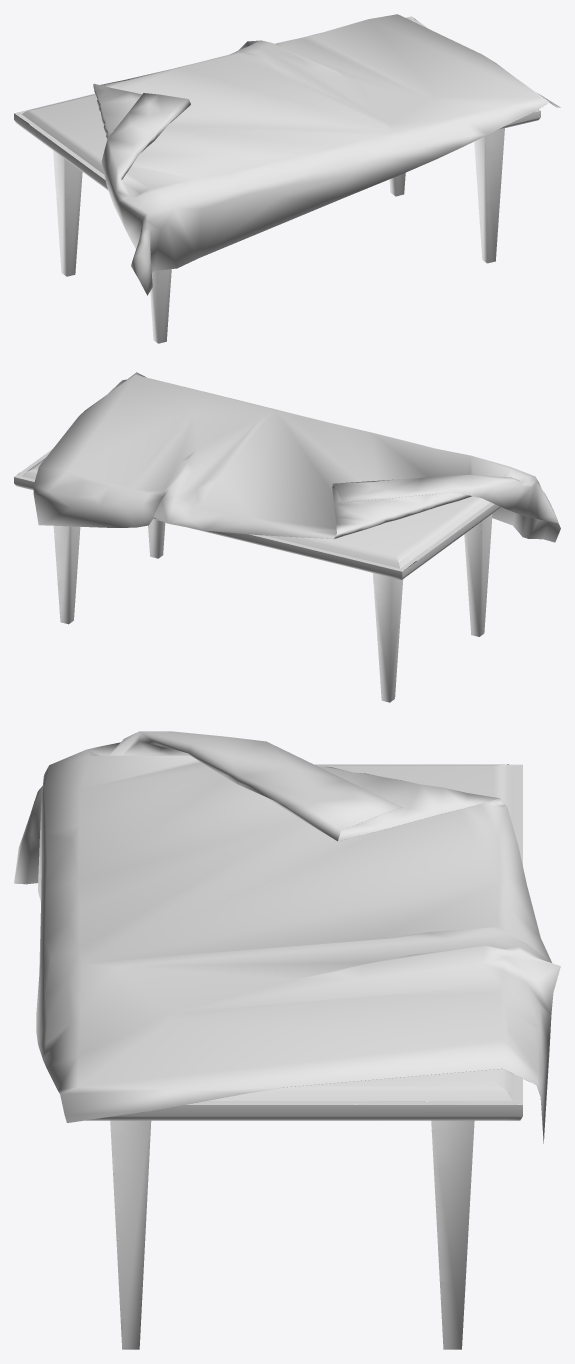
The model's file is 8c7111e8-3d2e-4be1-a2d2-b03e9acd9a45.glb.
3 renders of one model, top to bottom at view 1: azimuth 30°, elevation 25°; view 2: azimuth 150°, elevation 25°; view 3: azimuth 270°, elevation 25°, orthographic. The views are drawn at different scales.
Visible parts, largest first — view 1: dining_table_cloth, dining_table; view 2: dining_table_cloth, dining_table; view 3: dining_table_cloth, dining_table.
Boxes of the visible parts, x1,y1,x2,y2 form: dining_table_cloth: [93, 14, 560, 295]; dining_table: [14, 16, 540, 343]; dining_table_cloth: [33, 372, 560, 542]; dining_table: [14, 449, 501, 702]; dining_table_cloth: [14, 731, 560, 1143]; dining_table: [85, 764, 522, 1349].
Size of the model in its own units: 2.26 by 0.877 by 1.39.
Materials: 2 (2 with a texture image).
